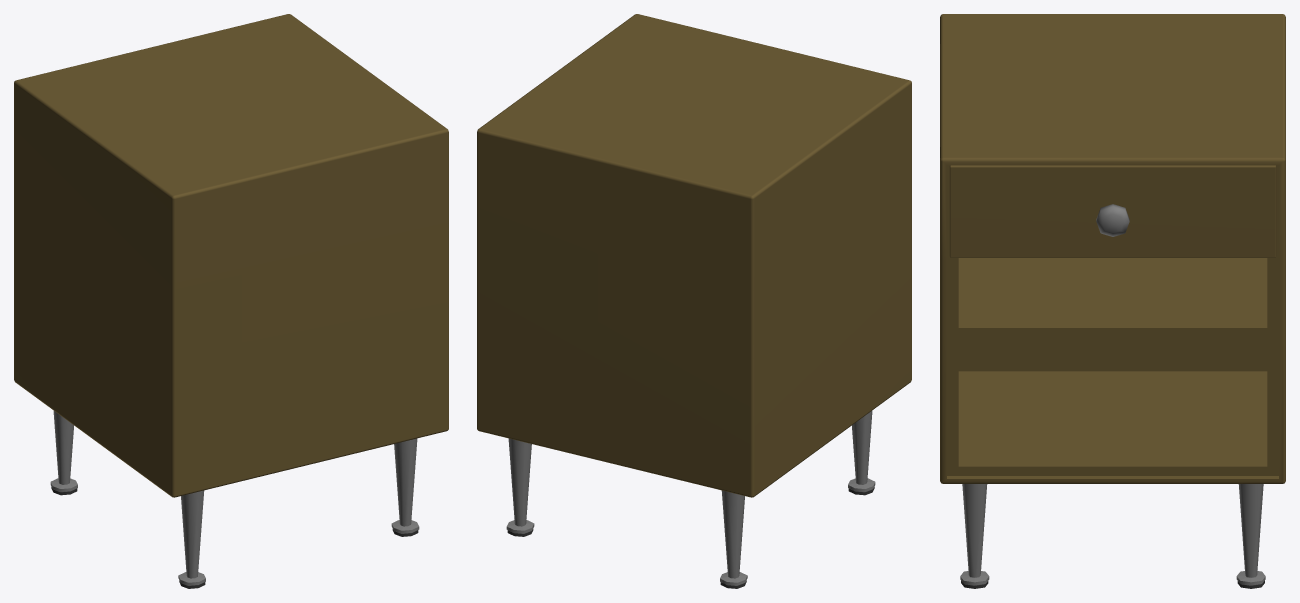
File: Nightstand_01.fbx
The picture shows the model from 3 angles, left to right: view 1: azimuth 30°, elevation 25°; view 2: azimuth 150°, elevation 25°; view 3: azimuth 270°, elevation 25°; orthographic projection. The views are drawn at different scales.
Parts seen in each view (by area): view 1: NightStand_Body, NightStand_Feet; view 2: NightStand_Body, NightStand_Feet; view 3: NightStand_Body, NightStand_Feet.
Part boxes in pixels (left/top/right/bottom): NightStand_Body: left=14, top=14, right=448, bottom=497; NightStand_Feet: left=50, top=411, right=419, bottom=588; NightStand_Body: left=477, top=14, right=911, bottom=497; NightStand_Feet: left=506, top=411, right=875, bottom=588; NightStand_Body: left=940, top=14, right=1285, bottom=483; NightStand_Feet: left=960, top=484, right=1265, bottom=588.
Size of the model in its own units: 42.61 by 55.35 by 39.48.
